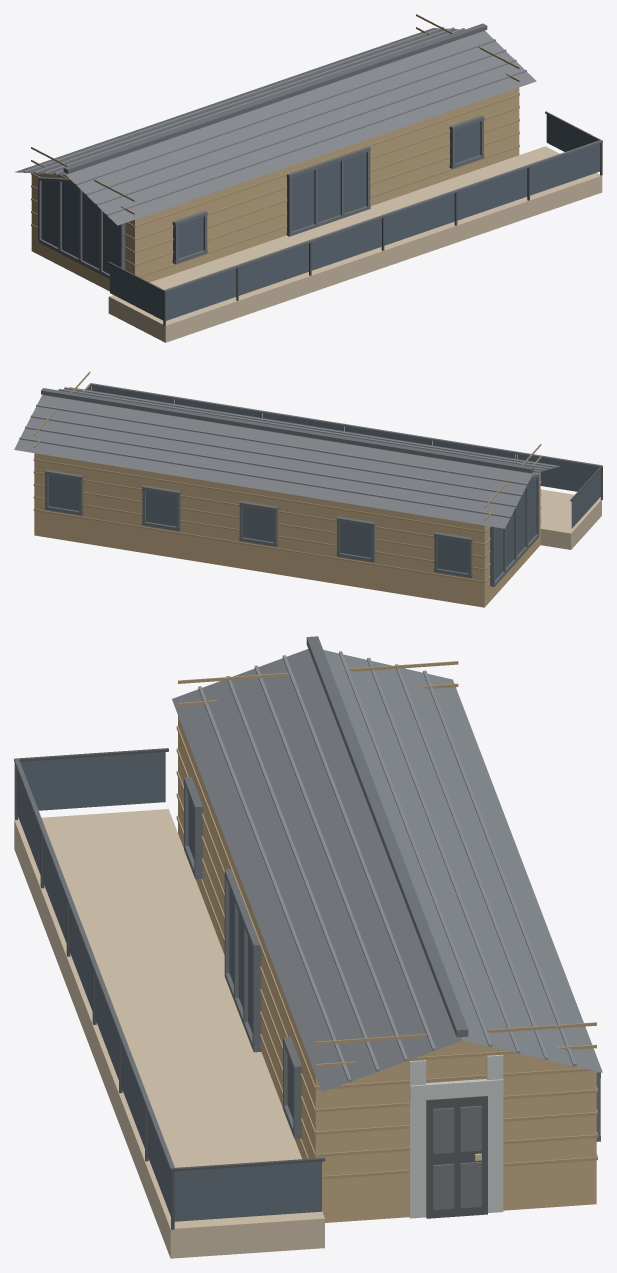
3 views of the same model, one above another, from view 1: azimuth 30°, elevation 25°; view 2: azimuth 150°, elevation 25°; view 3: azimuth 270°, elevation 25° (orthographic). The views are drawn at different scales.
Visible parts, largest first — view 1: slate, door_wood, larch, slate_dk, slate_lt, door_wood_p, window_glass_014, window_glass_003, window_glass_005, window_glass_006, window_glass_004, window_glass_001 (+9 smaller); view 2: door_wood, slate, slate_dk, slate_lt, door_wood_p, larch, window_glass_014, window_glass_001, window_glass_019, window_glass_017, window_glass_018, window_glass_015 (+7 smaller); view 3: slate, larch, door_wood, slate_dk, slate_lt, door_wood_p, window_glass_008, window_glass_007, stone_band, door_dark_p, door_dark, pipe (+6 smaller).
Part boxes in pixels (x1=…): slate: x1=14, y1=28, x2=536, y2=225; door_wood: x1=31, y1=87, x2=519, y2=291; larch: x1=108, y1=146, x2=602, y2=342; slate_dk: x1=38, y1=23, x2=602, y2=292; slate_lt: x1=23, y1=27, x2=526, y2=215; door_wood_p: x1=31, y1=14, x2=519, y2=277; window_glass_014: x1=41, y1=180, x2=119, y2=274; window_glass_003: x1=311, y1=218, x2=381, y2=270; window_glass_005: x1=457, y1=168, x2=527, y2=220; window_glass_006: x1=530, y1=143, x2=600, y2=195; window_glass_004: x1=384, y1=193, x2=454, y2=245; window_glass_001: x1=166, y1=268, x2=236, y2=320; door_wood: x1=34, y1=453, x2=540, y2=607; slate: x1=14, y1=387, x2=560, y2=528; slate_dk: x1=41, y1=383, x2=601, y2=586; slate_lt: x1=19, y1=387, x2=555, y2=518; door_wood_p: x1=33, y1=371, x2=541, y2=583; larch: x1=540, y1=489, x2=601, y2=549; window_glass_014: x1=495, y1=478, x2=536, y2=580; window_glass_001: x1=518, y1=454, x2=598, y2=491; window_glass_019: x1=437, y1=537, x2=468, y2=573; window_glass_017: x1=243, y1=506, x2=273, y2=542; window_glass_018: x1=340, y1=522, x2=370, y2=557; window_glass_015: x1=48, y1=475, x2=78, y2=510; slate: x1=172, y1=649, x2=602, y2=1091; larch: x1=14, y1=809, x2=324, y2=1258; door_wood: x1=178, y1=716, x2=596, y2=1222; slate_dk: x1=14, y1=636, x2=600, y2=1169; slate_lt: x1=198, y1=651, x2=576, y2=1081; door_wood_p: x1=176, y1=661, x2=597, y2=1179; window_glass_008: x1=174, y1=1161, x2=321, y2=1221; window_glass_007: x1=20, y1=752, x2=165, y2=810; stone_band: x1=409, y1=1054, x2=503, y2=1218; door_dark_p: x1=433, y1=1105, x2=481, y2=1209; door_dark: x1=426, y1=1096, x2=487, y2=1218; pipe: x1=14, y1=748, x2=325, y2=1229.
Size of the model in its own units: 15.68 by 3.39 by 9.03.
